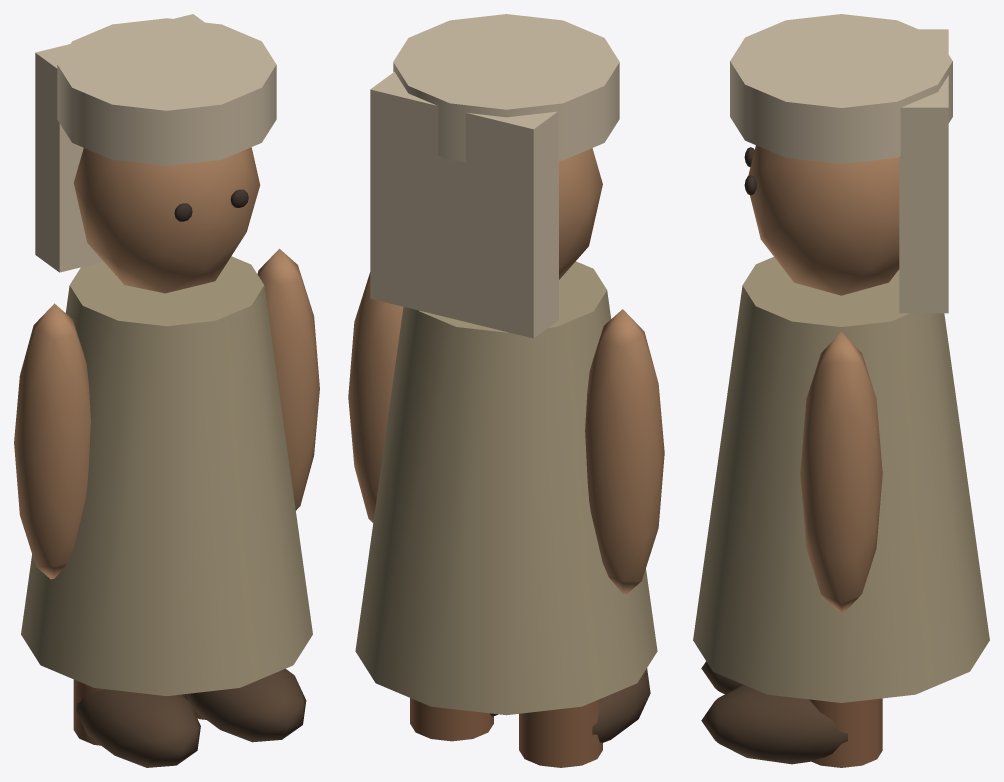
File: resident-shamhat.glb
The picture shows the model from 3 angles, left to right: view 1: azimuth 30°, elevation 25°; view 2: azimuth 150°, elevation 25°; view 3: azimuth 270°, elevation 25°; orthographic projection. The views are drawn at different scales.
Visible parts, largest first — view 1: resident-shamhat; view 2: resident-shamhat; view 3: resident-shamhat.
Part boxes in pixels (left/top/right/bottom): resident-shamhat: left=14, top=14, right=319, bottom=767; resident-shamhat: left=348, top=14, right=664, bottom=767; resident-shamhat: left=693, top=14, right=989, bottom=767.
Size of the model in its own units: 0.84 by 1.79 by 0.72.
